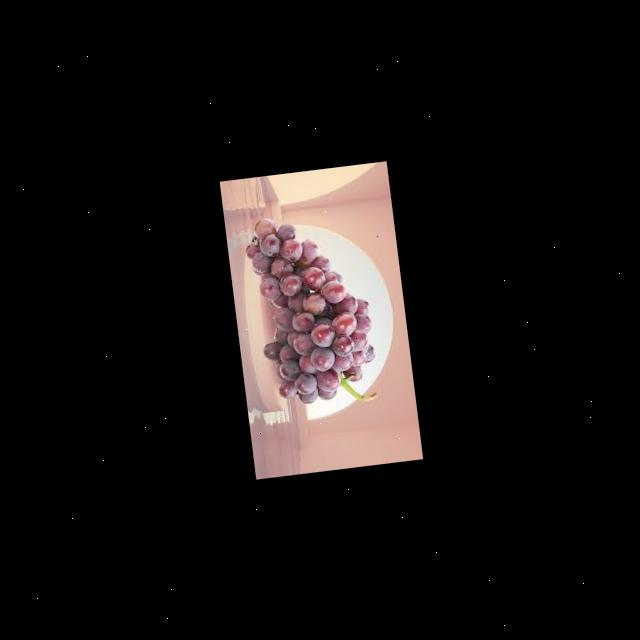grape: (241, 205, 381, 412)
